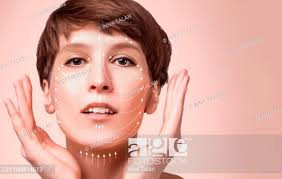white_female: (41, 40, 154, 152)
